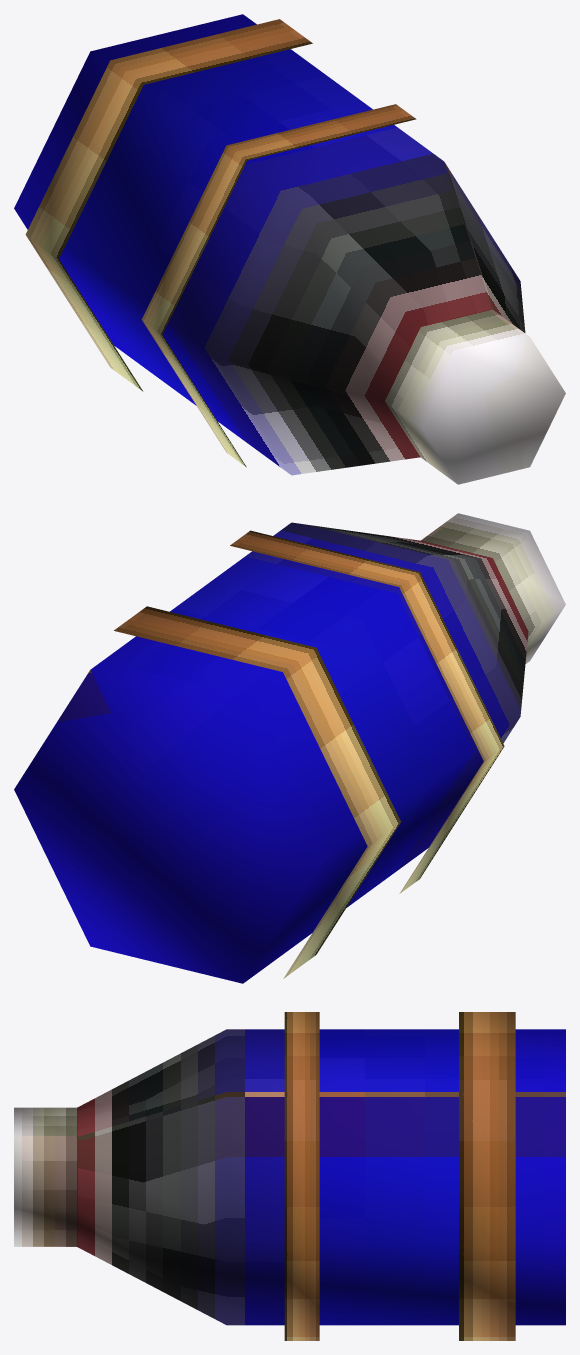
Rendered from Potion07.glb.
3 views of the same model, one above another, from view 1: azimuth 30°, elevation 25°; view 2: azimuth 150°, elevation 25°; view 3: azimuth 270°, elevation 25° (orthographic). The views are drawn at different scales.
Parts seen in each view (by area): view 1: model_Potion07; view 2: model_Potion07; view 3: model_Potion07.
Boxes of the visible parts, x1,y1,x2,y2 form: model_Potion07: [14, 14, 565, 484]; model_Potion07: [14, 513, 565, 983]; model_Potion07: [14, 1012, 565, 1340].
Size of the model in its own units: 0.2179 by 0.1887 by 0.3645.
2 materials, 2 textured.
